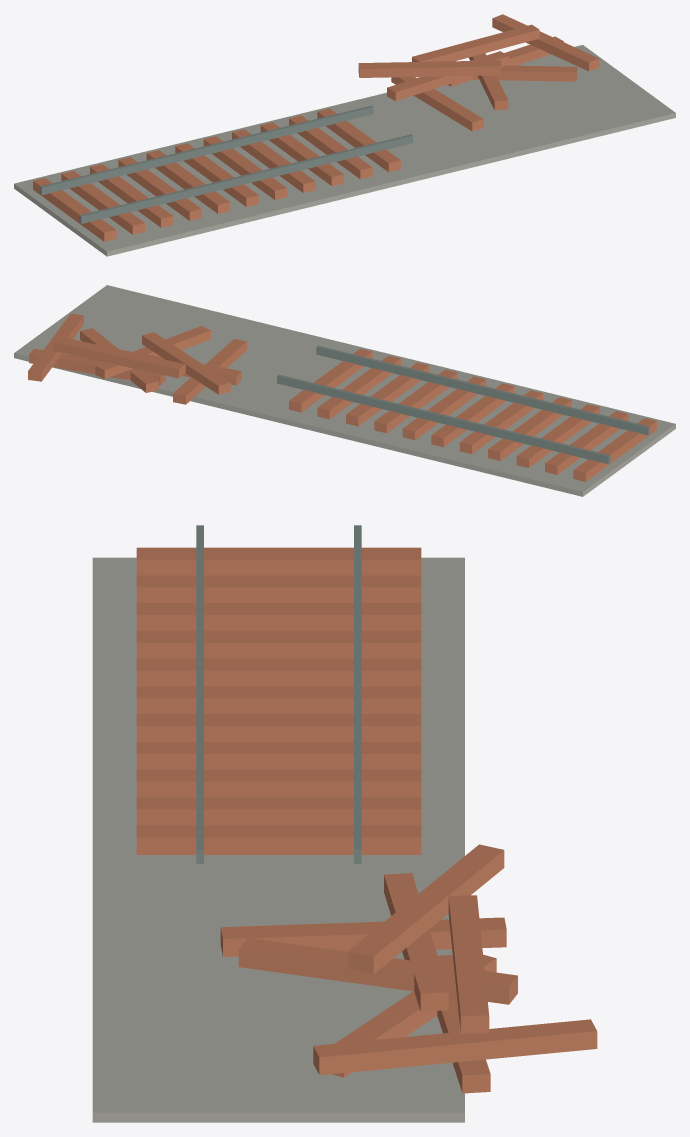
Rendered from SM_ViaRota_v1_Traviesas_LOD0.fbx.
The picture shows the model from 3 angles, top to bottom: view 1: azimuth 30°, elevation 25°; view 2: azimuth 150°, elevation 25°; view 3: azimuth 270°, elevation 25°; orthographic projection. The views are drawn at different scales.
Parts seen in each view (by area): view 1: SM_aqui_paso_algo_v6_LOD0; view 2: SM_aqui_paso_algo_v6_LOD0; view 3: SM_aqui_paso_algo_v6_LOD0.
Part boxes in pixels (x1,y1,x2,y2): SM_aqui_paso_algo_v6_LOD0: [14, 14, 675, 256]; SM_aqui_paso_algo_v6_LOD0: [14, 285, 675, 496]; SM_aqui_paso_algo_v6_LOD0: [92, 525, 597, 1122].
Bounding box in the file's own units: 12 × 0.64 × 4.61.
